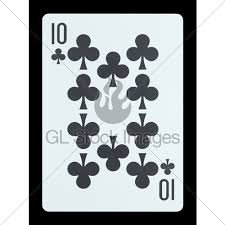ten of clubs: (41, 13, 184, 211)
